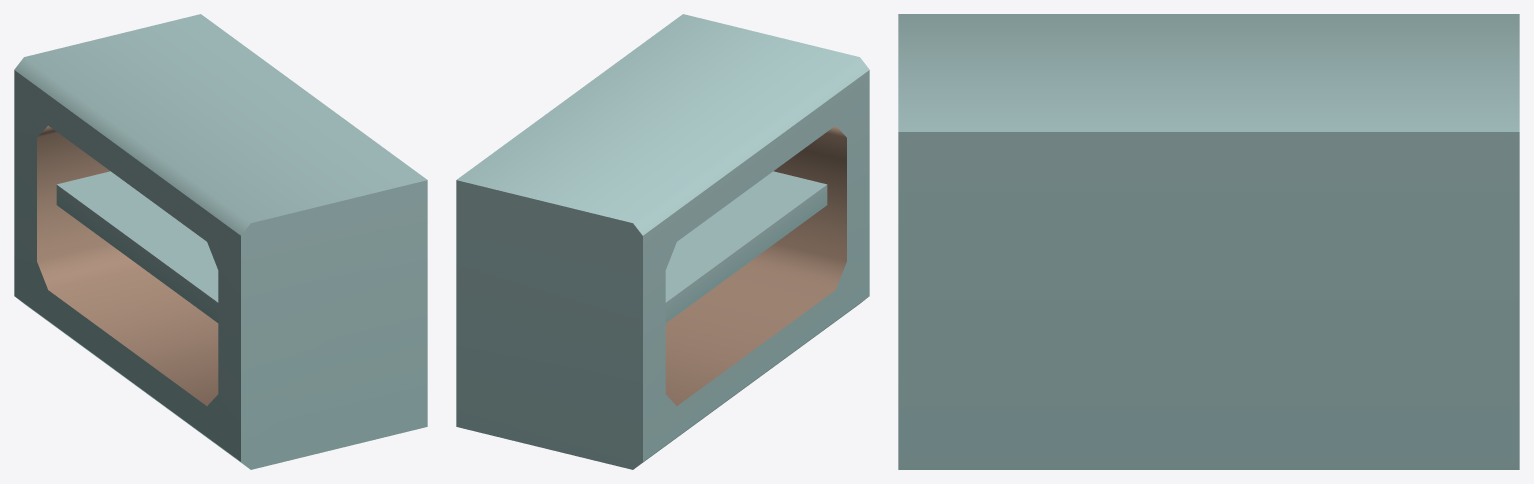
Rendered from cabinet-decorative-upper-open-short (%wall).glb.
3 views of the same model, side by side, from view 1: azimuth 30°, elevation 25°; view 2: azimuth 150°, elevation 25°; view 3: azimuth 270°, elevation 25° (orthographic). The views are drawn at different scales.
Parts seen in each view (by area): view 1: cabinet-decorative-upper-open-short (%wall); view 2: cabinet-decorative-upper-open-short (%wall); view 3: cabinet-decorative-upper-open-short (%wall).
Boxes of the visible parts, left/top/right/bottom form: cabinet-decorative-upper-open-short (%wall): left=14, top=14, right=427, bottom=469; cabinet-decorative-upper-open-short (%wall): left=456, top=14, right=869, bottom=469; cabinet-decorative-upper-open-short (%wall): left=898, top=14, right=1519, bottom=469.
Size of the model in its own units: 0.2375 by 0.3 by 0.5.
